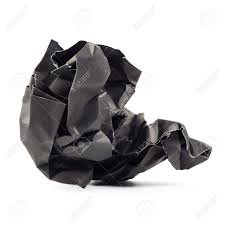crumpled paper: (22, 37, 214, 190)
